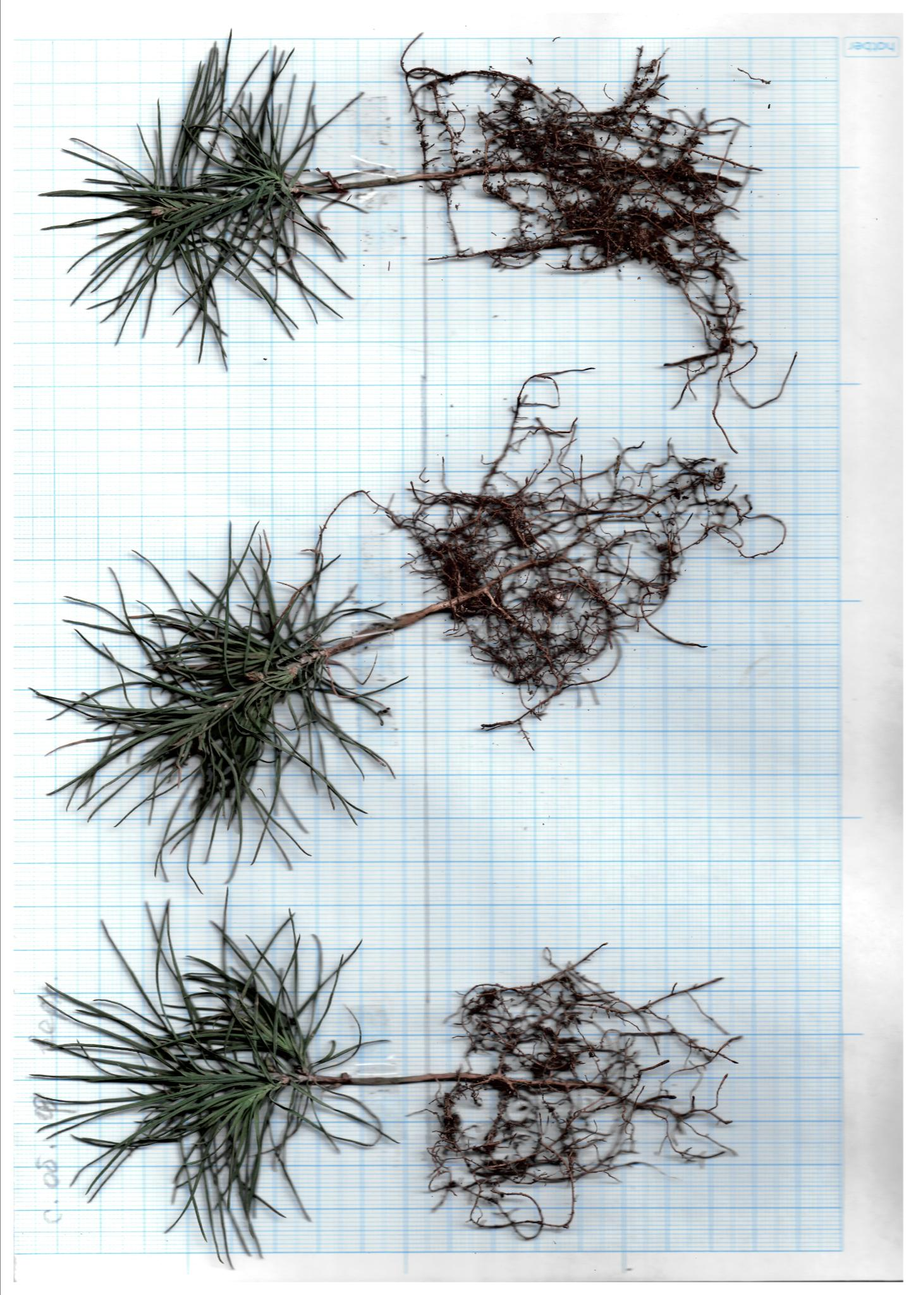Seeding: (28, 422, 790, 891), (34, 26, 776, 407), (26, 895, 753, 1251)
